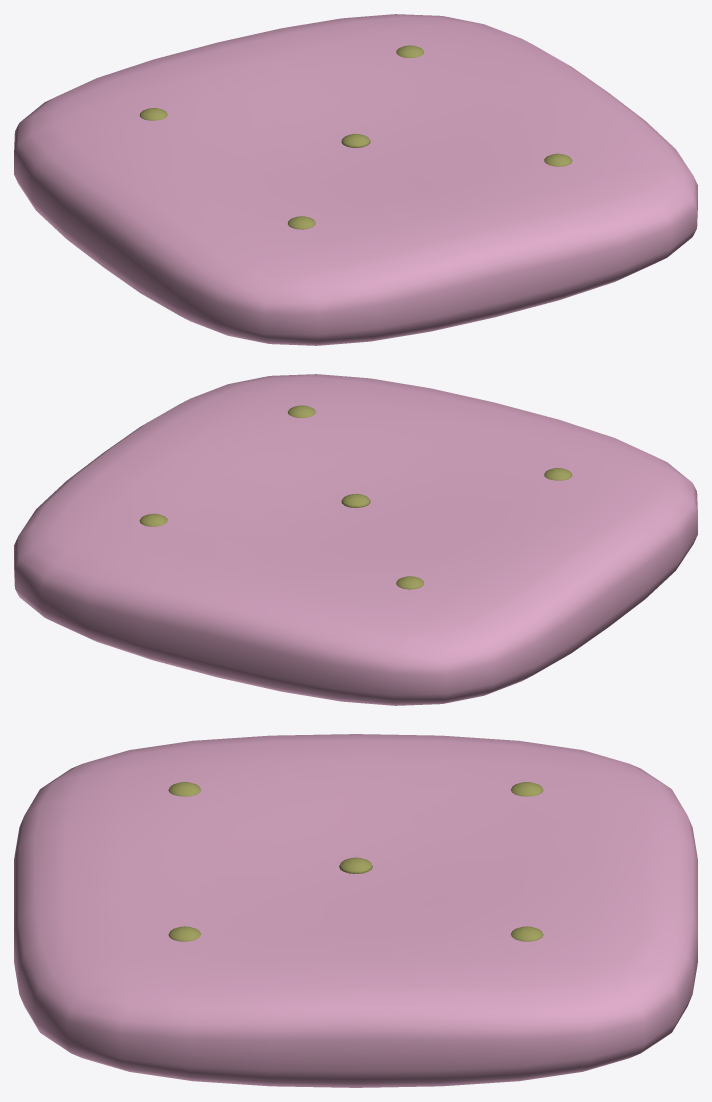
File: Pillow.fbx
3 views of the same model, one above another, from view 1: azimuth 30°, elevation 25°; view 2: azimuth 150°, elevation 25°; view 3: azimuth 270°, elevation 25° (orthographic). The views are drawn at different scales.
Parts seen in each view (by area): view 1: Pillow, Buttons1; view 2: Pillow, Buttons1; view 3: Pillow, Buttons1.
Boxes of the visible parts, left/top/right/bottom form: Pillow: left=14, top=14, right=697, bottom=345; Buttons1: left=139, top=45, right=572, bottom=229; Pillow: left=14, top=374, right=697, bottom=705; Buttons1: left=139, top=405, right=572, bottom=589; Pillow: left=14, top=734, right=697, bottom=1087; Buttons1: left=168, top=782, right=543, bottom=941.
Bounding box in the file's own units: 4 × 0.6713 × 4.
